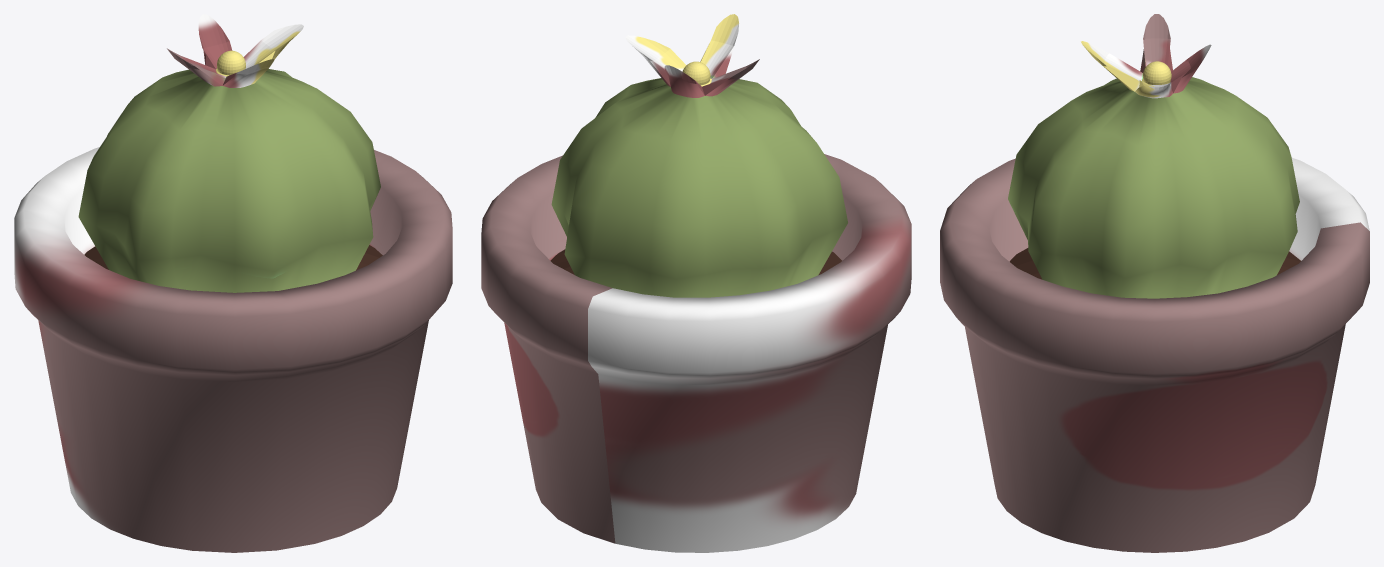
File: MOD_Placeholder_V2.fbx
3 views of the same model, side by side, from view 1: azimuth 30°, elevation 25°; view 2: azimuth 150°, elevation 25°; view 3: azimuth 270°, elevation 25° (orthographic). The views are drawn at different scales.
Parts seen in each view (by area): view 1: Cylinder; view 2: Cylinder; view 3: Cylinder.
Part boxes in pixels (x1,y1,x2,y2): Cylinder: (14, 14, 452, 552); Cylinder: (481, 14, 911, 552); Cylinder: (940, 14, 1369, 552).
Bounding box in the file's own units: 158 × 179 × 158.
